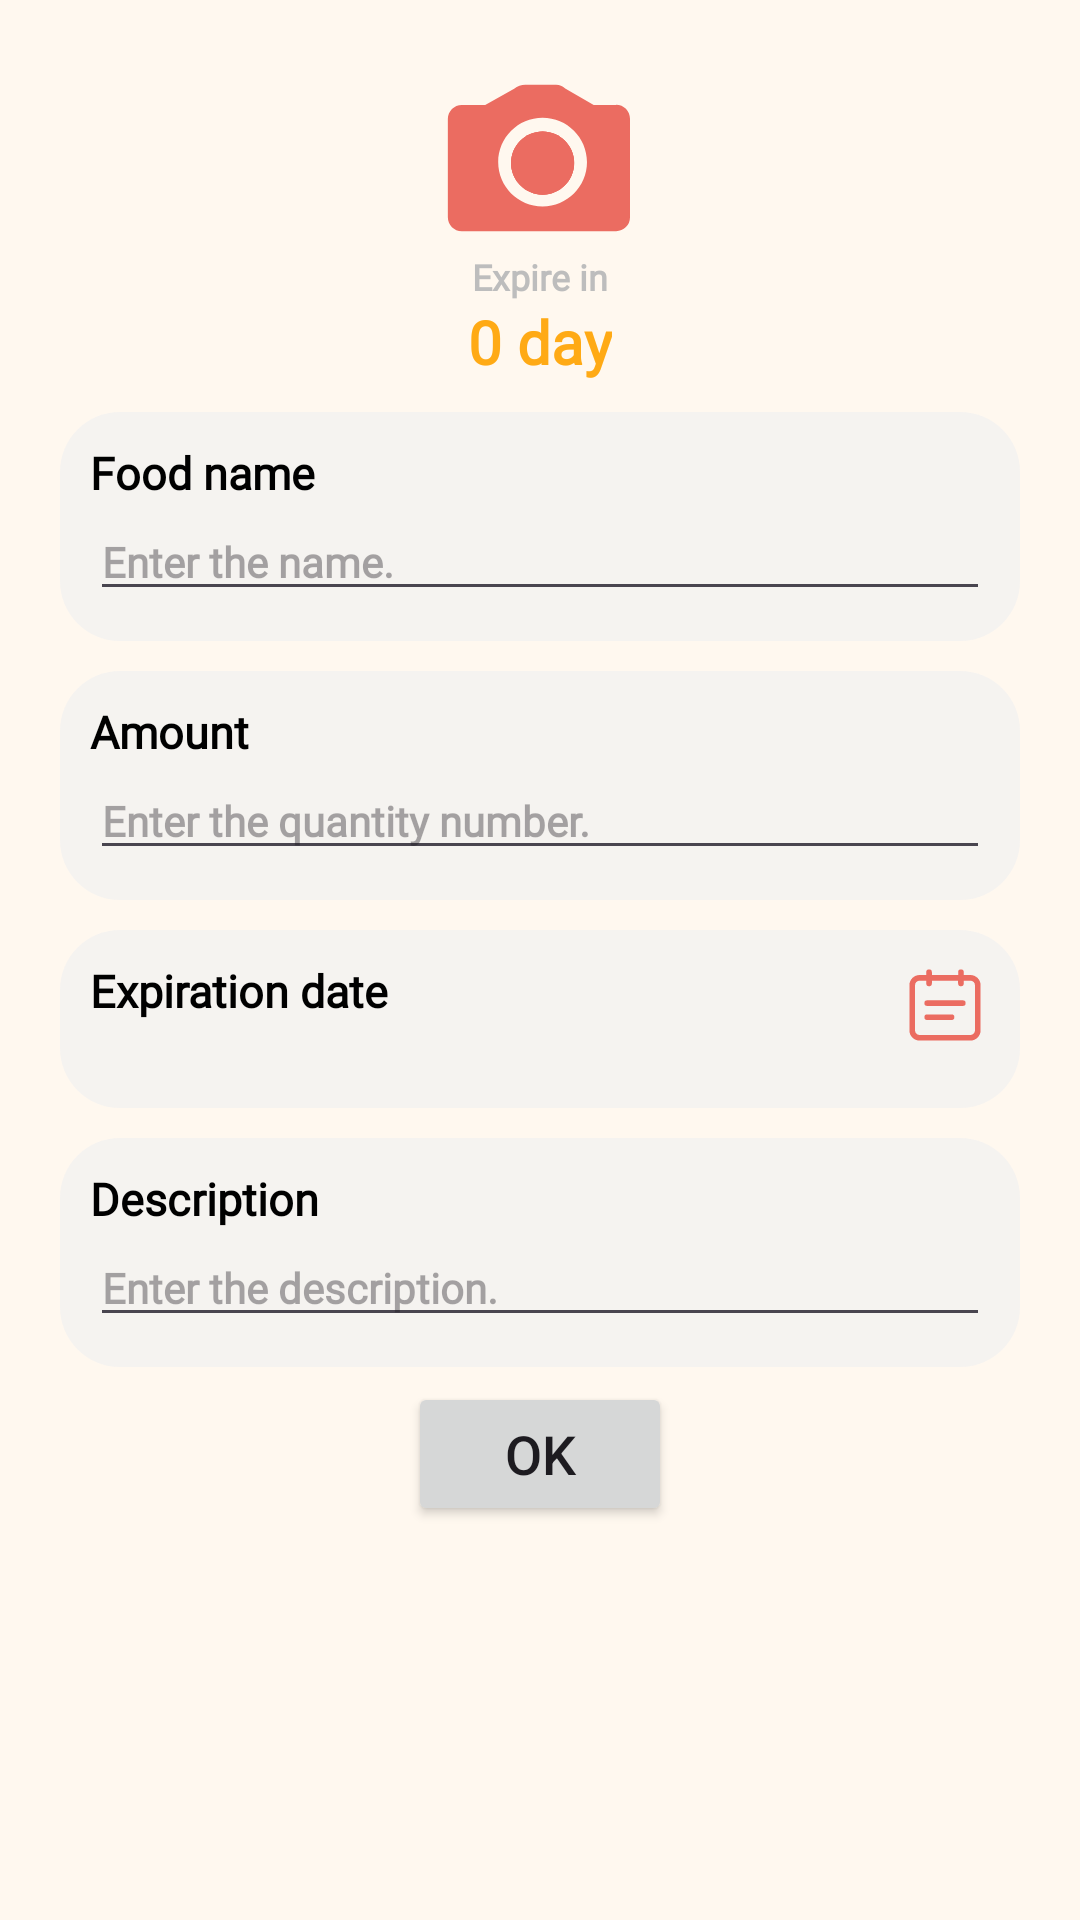

Where to tap for icons on this 1080 × 1920 app screen, as point (x, y):
storage calendar: point (945, 1005)
storage camera: point (539, 158)
